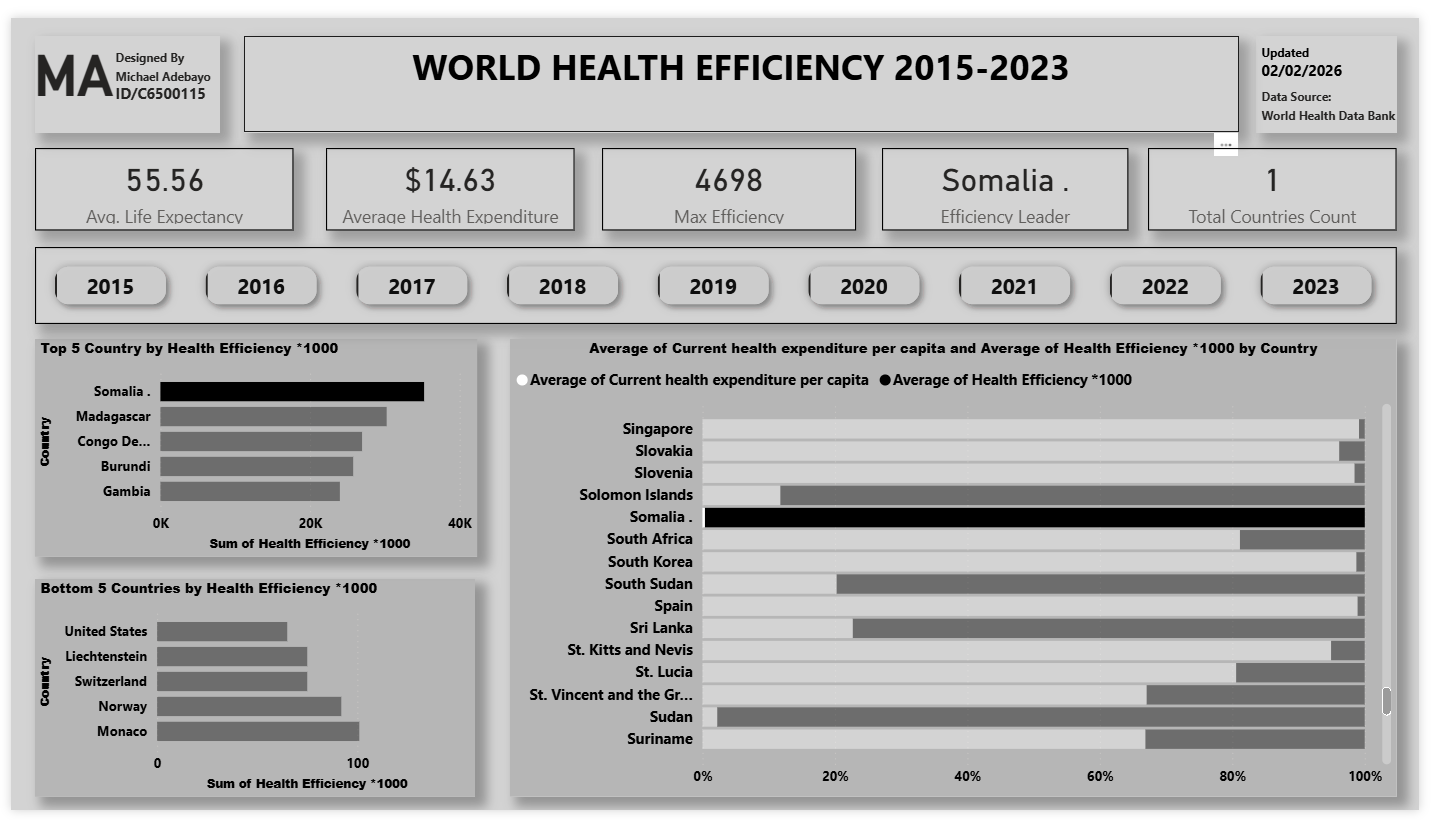

Layout of this report page (visuals, bound fields, positions):
{"tool":"powerbi","page":{"name":"Page 1","canvas":[1280,720],"ordinal":0},"visuals":[{"type":"clusteredBarChart","title":"Top 5 Country by Health Efficiency *1000","fields":{"Category":["Table1.Country Name"],"Y":["Sum(Table1.Health Efficiency *1000)"]},"box":[22,292,402,198],"z":0},{"type":"clusteredBarChart","title":"Bottom 5 Countries by Health Efficiency *1000 ","fields":{"Category":["Table1.Country "],"Y":["Sum(Table1.Health Efficiency *1000)"]},"box":[22,510,400,198],"z":1000},{"type":"advancedSlicerVisual","fields":{"Values":["Table1.Year"]},"box":[22,208,1238,70],"z":2000},{"type":"hundredPercentStackedBarChart","fields":{"Category":["Table1.Country "],"Y":["Avg(Table1.Current health expenditure per capita )","Avg(Table1.Health Efficiency *1000)"]},"box":[454,292,806,416],"z":3000},{"type":"textbox","box":[212,16,904,88],"z":4000},{"type":"card","fields":{"Values":["Table1.Avg. Life Expectancy"]},"box":[22,118,235.1,75],"z":4000,"group":"g1"},{"type":"textbox","box":[1132,16,128,88],"z":5000},{"type":"card","fields":{"Values":["Table1.Average Health Expenditure"]},"box":[286.2,118,226.2,75],"z":5000,"group":"g1"},{"type":"textbox","box":[16.7,18.3,93.3,91.7],"z":6000},{"type":"card","fields":{"Values":["Table1.Max Efficiency"]},"box":[537,118,230.6,75],"z":6000,"group":"g1"},{"type":"group","id":"g1","title":"Group 2","box":[22,118,1238,76],"z":7000},{"type":"card","fields":{"Values":["Table1.Efficiency Leader"]},"box":[792.3,118,223.9,75],"z":7000,"group":"g1"},{"type":"textbox","box":[90,21.1,106.7,68.9],"z":8000},{"type":"textbox","box":[1132,56,138,62],"z":9000},{"type":"card","fields":{"Values":["Table1.Total Countries"]},"box":[1034.2,118,226.2,75],"z":9000,"group":"g1"},{"type":"textbox","box":[22,16,168,88],"z":10000}]}

Visuals, with their boxes in screenshot pixels (x1, y1, x2, y2), scaled from the page's 1280x720 canvas onto the 1442x820 screenshot:
"Top 5 Country by Health Efficiency *1000" clusteredBarChart: bbox=[25, 333, 478, 558]
"Bottom 5 Countries by Health Efficiency *1000 " clusteredBarChart: bbox=[25, 581, 475, 806]
advancedSlicerVisual - Table1.Year: bbox=[25, 237, 1419, 317]
hundredPercentStackedBarChart - Table1.Country  x Avg(Table1.Current health expenditure per capita ): bbox=[511, 333, 1419, 806]
textbox: bbox=[239, 18, 1257, 118]
card - Table1.Avg. Life Expectancy: bbox=[25, 134, 290, 220]
textbox: bbox=[1275, 18, 1419, 118]
card - Table1.Average Health Expenditure: bbox=[322, 134, 577, 220]
textbox: bbox=[19, 21, 124, 125]
card - Table1.Max Efficiency: bbox=[605, 134, 865, 220]
"Group 2" group: bbox=[25, 134, 1419, 221]
card - Table1.Efficiency Leader: bbox=[893, 134, 1145, 220]
textbox: bbox=[101, 24, 222, 102]
textbox: bbox=[1275, 64, 1431, 134]
card - Table1.Total Countries: bbox=[1165, 134, 1420, 220]
textbox: bbox=[25, 18, 214, 118]
